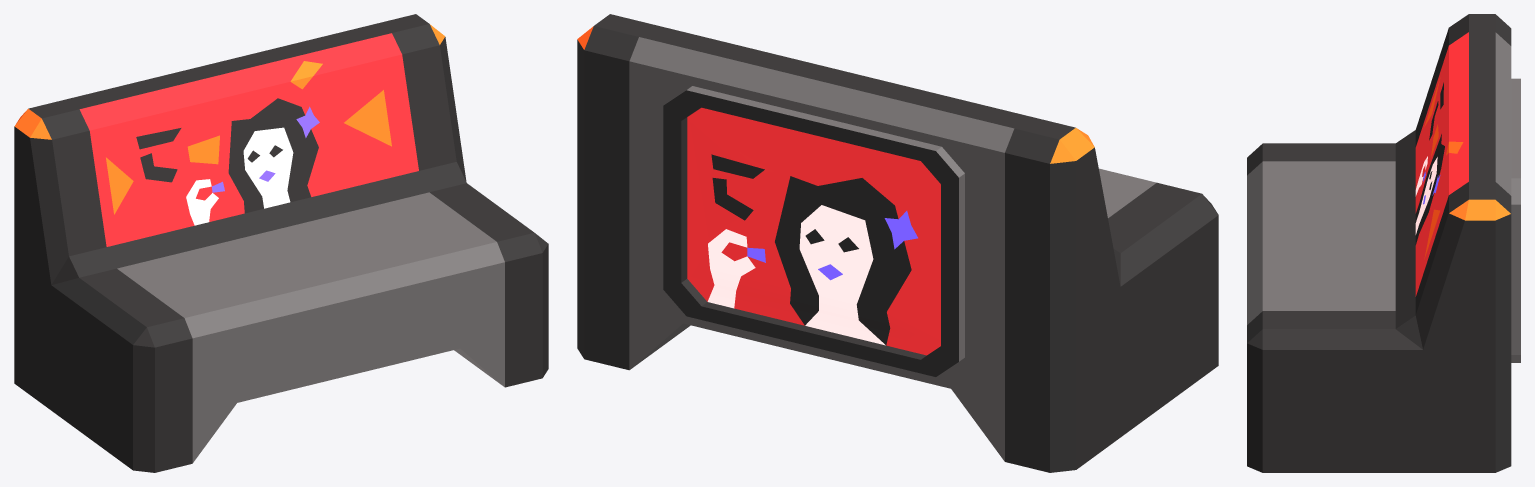
Rendered from scifi_scifi-bench-c.fbx.
3 renders of one model, left to right at view 1: azimuth 30°, elevation 25°; view 2: azimuth 150°, elevation 25°; view 3: azimuth 270°, elevation 25°, orthographic. The views are drawn at different scales.
Visible parts, largest first — view 1: scifi_scifi_bench_c; view 2: scifi_scifi_bench_c; view 3: scifi_scifi_bench_c.
Boxes of the visible parts, x1=… form: scifi_scifi_bench_c: x1=14, y1=14, x2=548, y2=472; scifi_scifi_bench_c: x1=577, y1=14, x2=1218, y2=472; scifi_scifi_bench_c: x1=1247, y1=14, x2=1520, y2=472.
Bounding box in the file's own units: 200 × 125 × 116.
